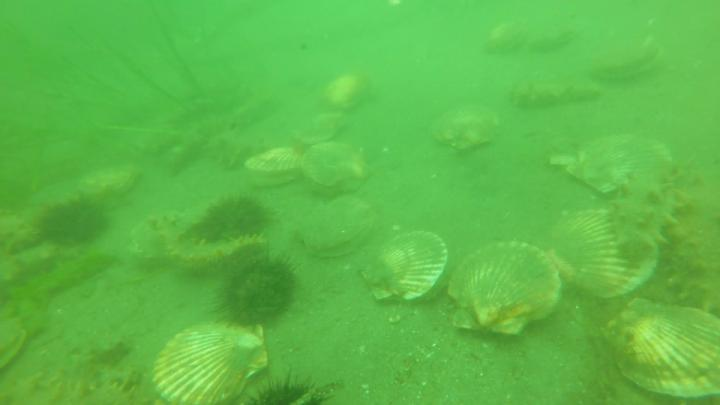echinus: (220, 253, 298, 333), (37, 188, 115, 249), (179, 194, 272, 245)
holothurian: (606, 153, 709, 265), (156, 221, 272, 280), (672, 200, 720, 317), (508, 75, 604, 116), (203, 126, 273, 170), (1, 199, 48, 256)
scallop: (598, 295, 720, 405), (543, 206, 664, 304), (447, 239, 564, 339), (153, 315, 276, 405), (563, 131, 674, 196), (361, 228, 448, 308), (296, 194, 376, 264), (429, 95, 506, 157), (128, 204, 198, 269), (302, 140, 378, 193), (591, 41, 667, 91), (245, 142, 305, 187), (321, 73, 378, 114), (481, 14, 533, 57), (2, 314, 30, 375)
